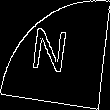N_S: (33, 27, 77, 83)
